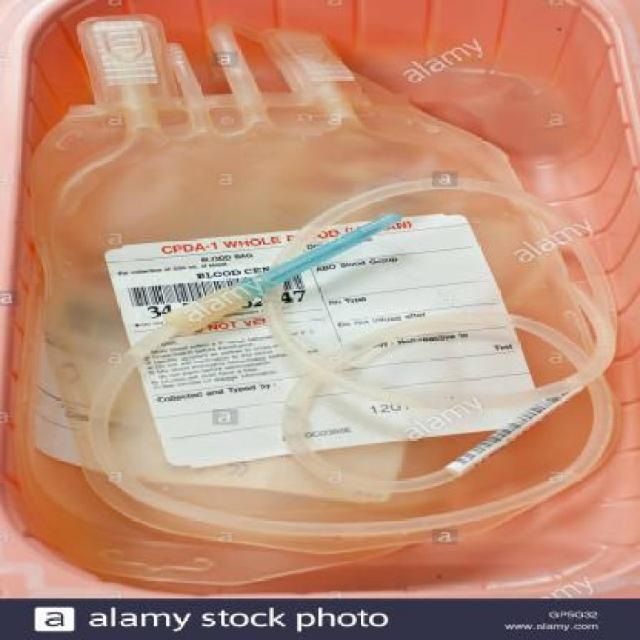B3: (29, 17, 616, 585)
